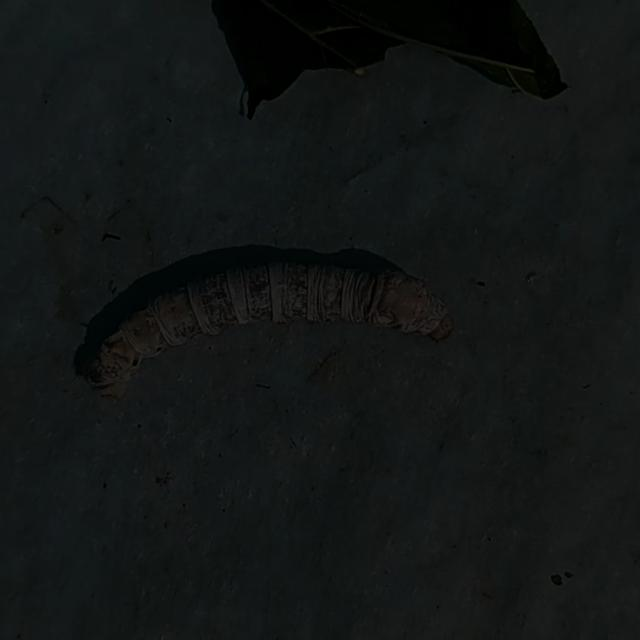Grasserie: (75, 234, 458, 410)
